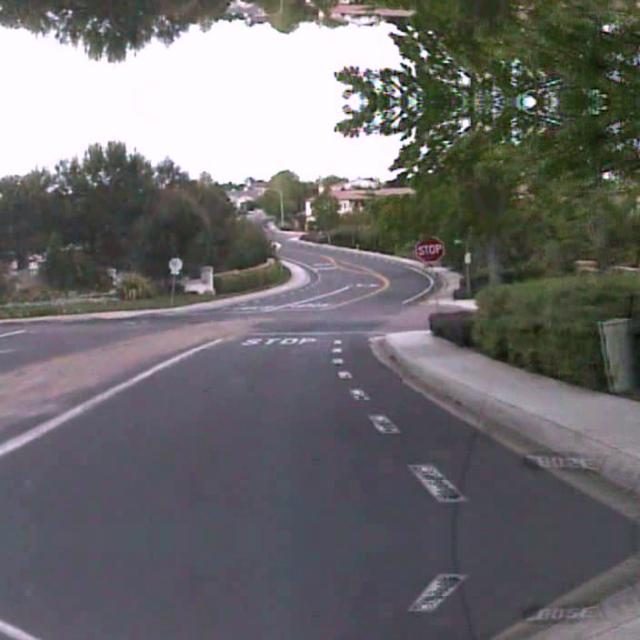stop: (415, 234, 445, 262)
